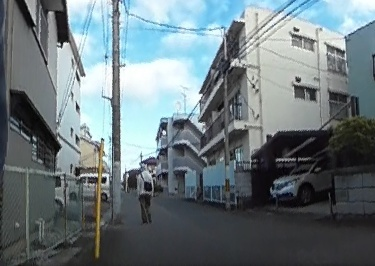person: (135, 162, 155, 222)
